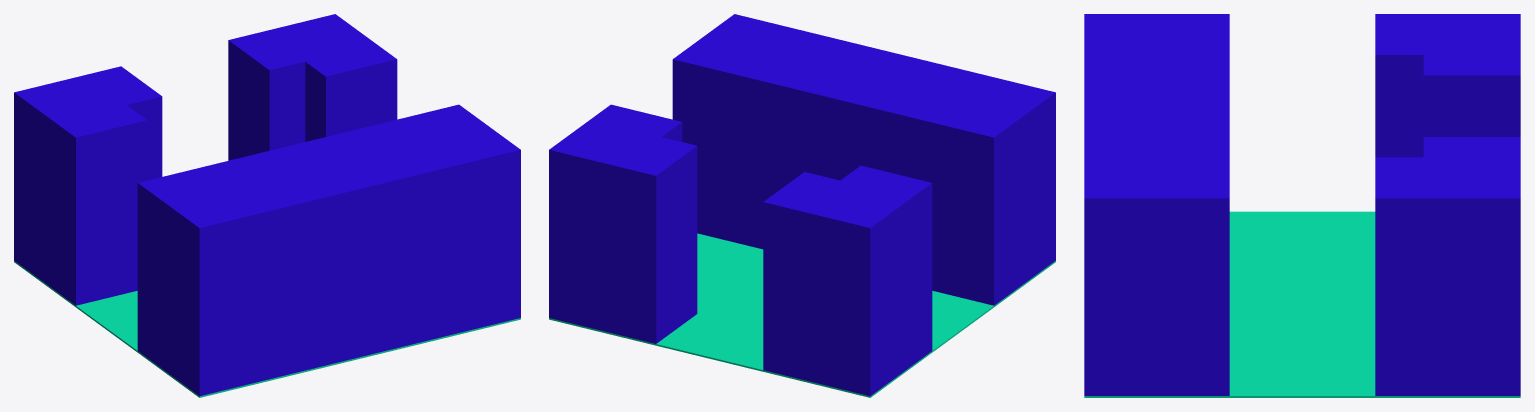
File: Block3.glb
3 renders of one model, left to right at view 1: azimuth 30°, elevation 25°; view 2: azimuth 150°, elevation 25°; view 3: azimuth 270°, elevation 25°, orthographic. The views are drawn at different scales.
Visible parts, largest first — view 1: 3Way; view 2: 3Way; view 3: 3Way.
Part boxes in pixels (left/top/right/bottom): 3Way: left=14, top=14, right=520, bottom=397; 3Way: left=549, top=14, right=1055, bottom=397; 3Way: left=1084, top=14, right=1520, bottom=397.
Size of the model in its own units: 2 by 1.01 by 2.
